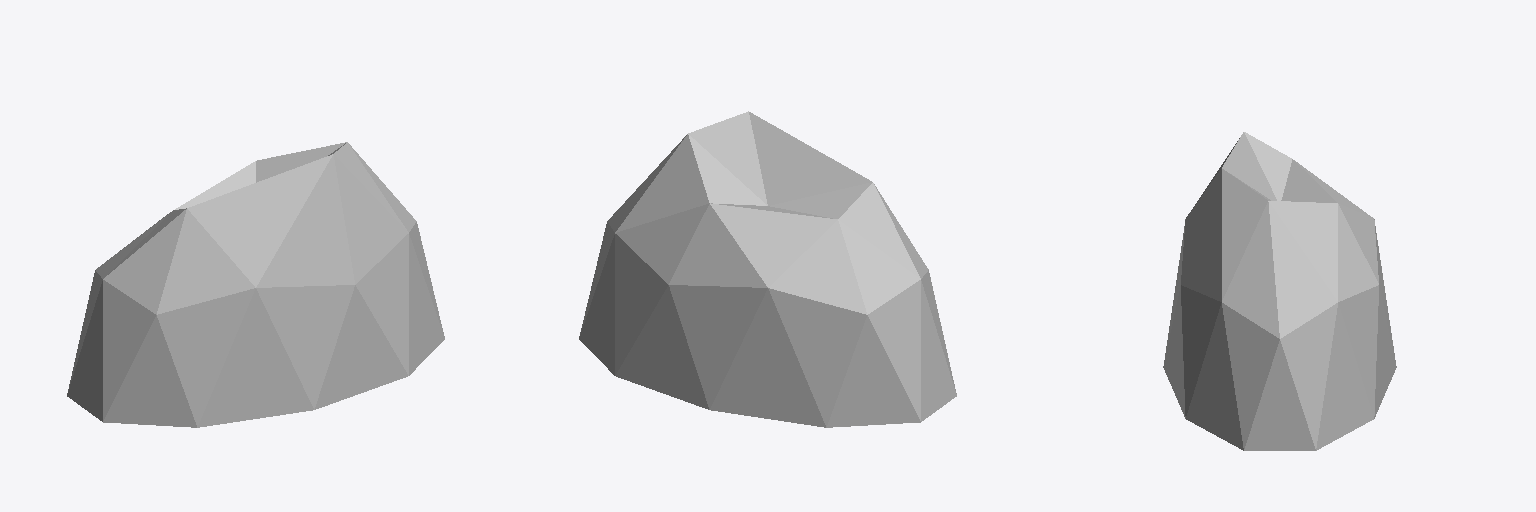
File: Steine.obj
3 views of the same model, side by side, from view 1: azimuth 30°, elevation 25°; view 2: azimuth 150°, elevation 25°; view 3: azimuth 270°, elevation 25° (orthographic).
Visible parts, largest first — view 1: Icosphere.001; view 2: Icosphere.001; view 3: Icosphere.001.
Part boxes in pixels (left/top/right/bottom): Icosphere.001: left=67, top=142, right=444, bottom=427; Icosphere.001: left=579, top=111, right=956, bottom=427; Icosphere.001: left=1163, top=132, right=1396, bottom=450.
Bounding box in the file's own units: 3.39 × 2.11 × 2.